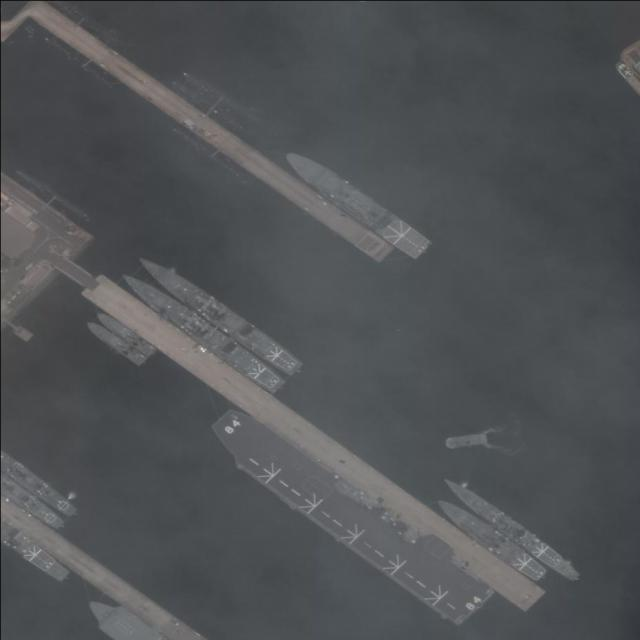Auxiliary Ships: (279, 144, 431, 261), (432, 492, 549, 584)
Destroyer: (206, 401, 495, 639), (131, 247, 306, 381), (114, 264, 288, 398), (439, 471, 582, 586)
Dock: (59, 254, 545, 616), (34, 1, 391, 264)
Other Warship: (84, 317, 147, 369), (94, 308, 156, 359), (445, 433, 488, 451)
Submarine: (23, 21, 118, 89), (179, 71, 262, 125), (171, 126, 250, 180), (12, 167, 88, 220), (169, 80, 246, 132)
